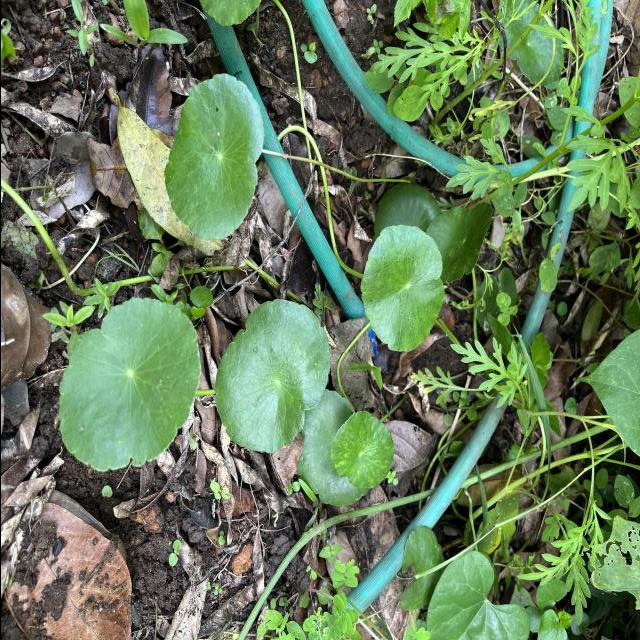Bacopa monnieri: (55, 296, 202, 474), (212, 298, 331, 456), (162, 71, 265, 242), (358, 224, 446, 354), (328, 409, 396, 490)
